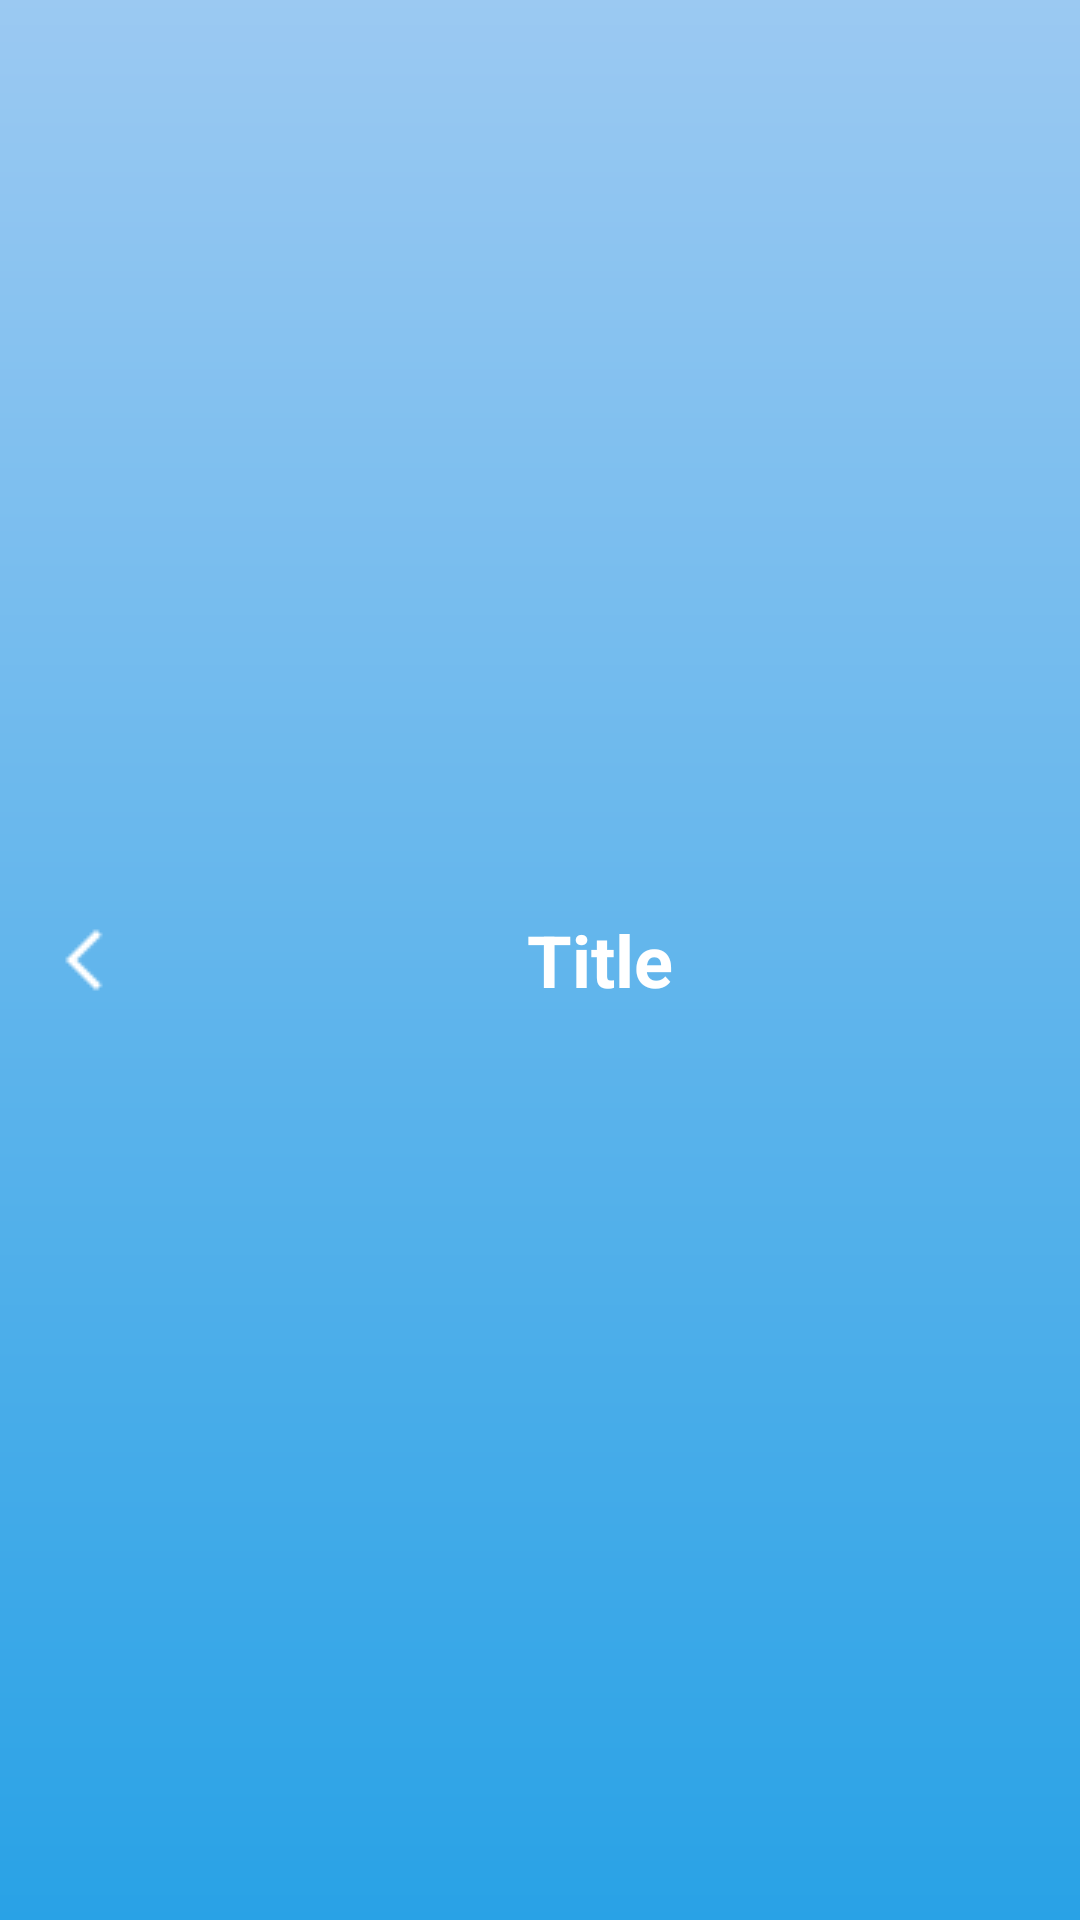

Screen size 1080 x 1920. Icon name, then its center in pixels as point (x, y):
arrow back: point (83, 960)
